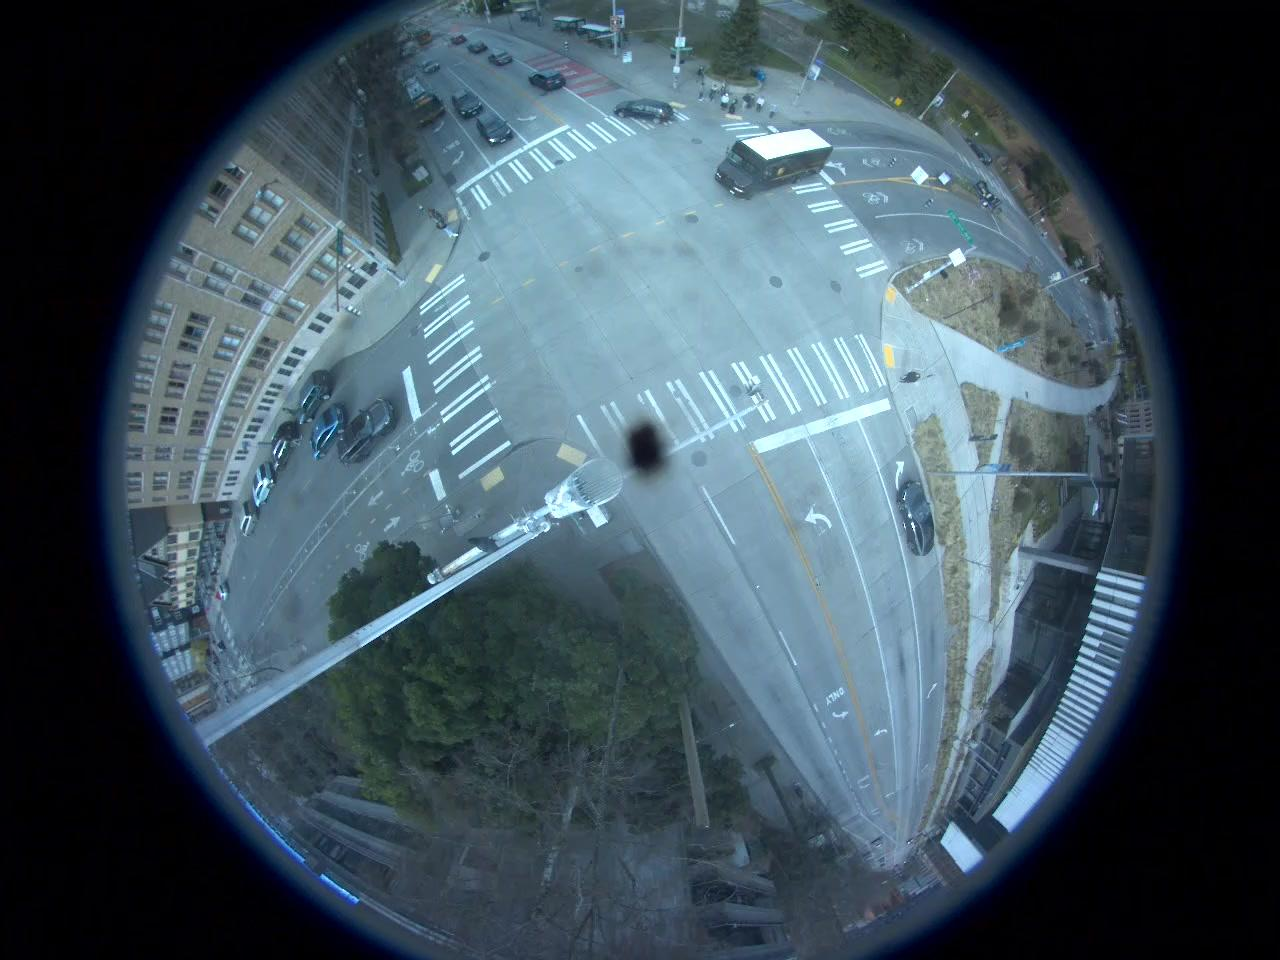bus: (396, 70, 446, 125)
car: (900, 482, 934, 556), (342, 405, 388, 457), (297, 372, 328, 424), (619, 98, 680, 124), (314, 406, 342, 457), (478, 110, 516, 146), (274, 422, 298, 472), (451, 88, 486, 118), (251, 462, 273, 505), (528, 70, 566, 92), (240, 502, 258, 536), (487, 48, 512, 64)
person: (898, 368, 926, 384), (424, 202, 444, 223), (437, 219, 458, 238), (755, 92, 767, 114), (742, 88, 754, 107), (768, 100, 778, 122), (720, 90, 730, 112), (698, 80, 708, 102), (730, 94, 739, 117), (710, 82, 719, 103)
truck: (712, 126, 831, 201)
